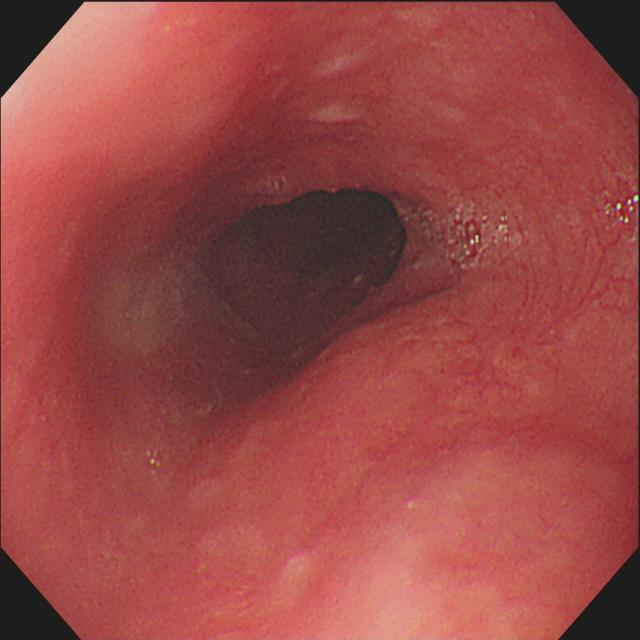E: (212, 186, 408, 345)
T: (406, 204, 526, 270), (608, 189, 639, 241)
